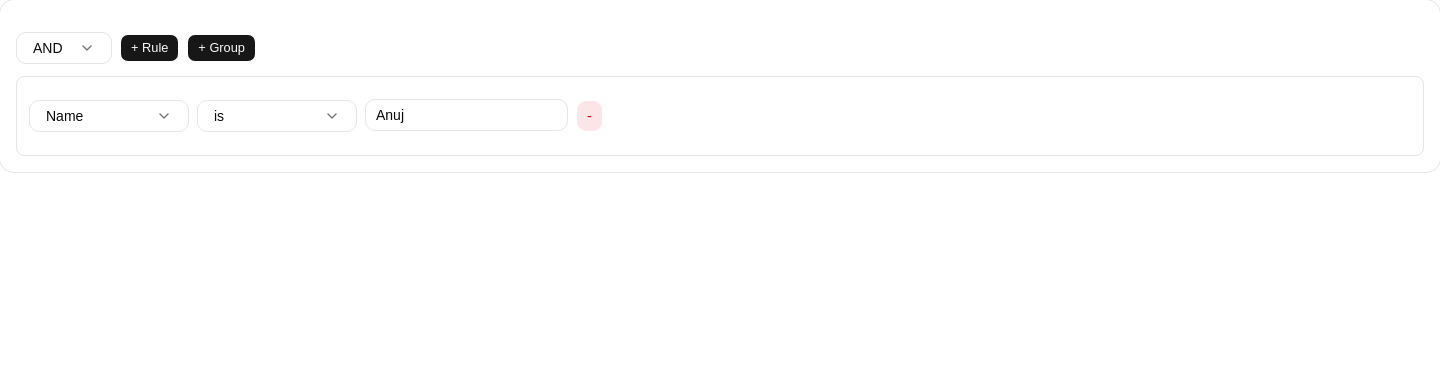
Group tests for behaviour › adds a Group when + Group clicked
Click the button "+ Group" at (222, 48), box top-left (187, 34), bottom-right (256, 62)
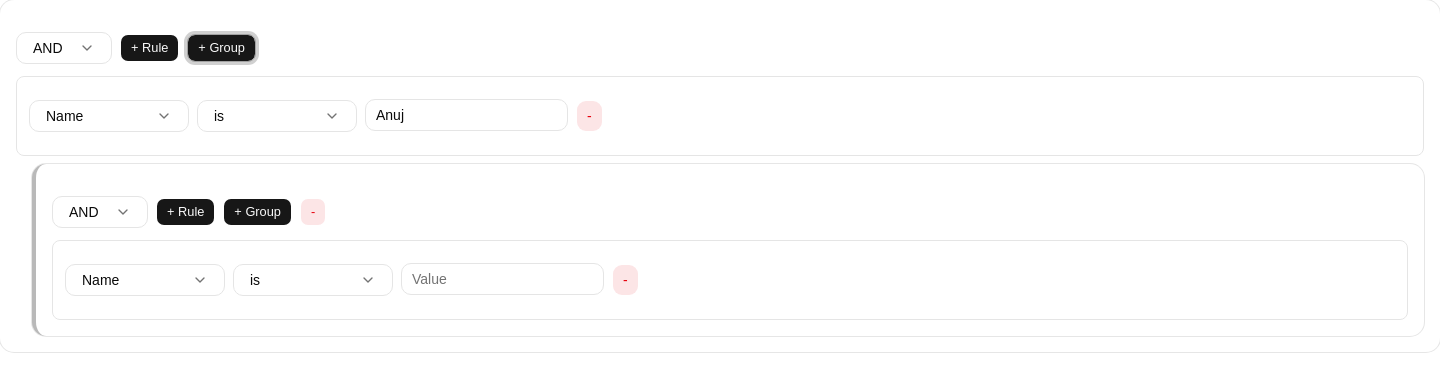
Expected: the number of fields with placeholder "Value" is 2, top-left (365, 99), bottom-right (568, 131); top-left (401, 263), bottom-right (604, 295)
